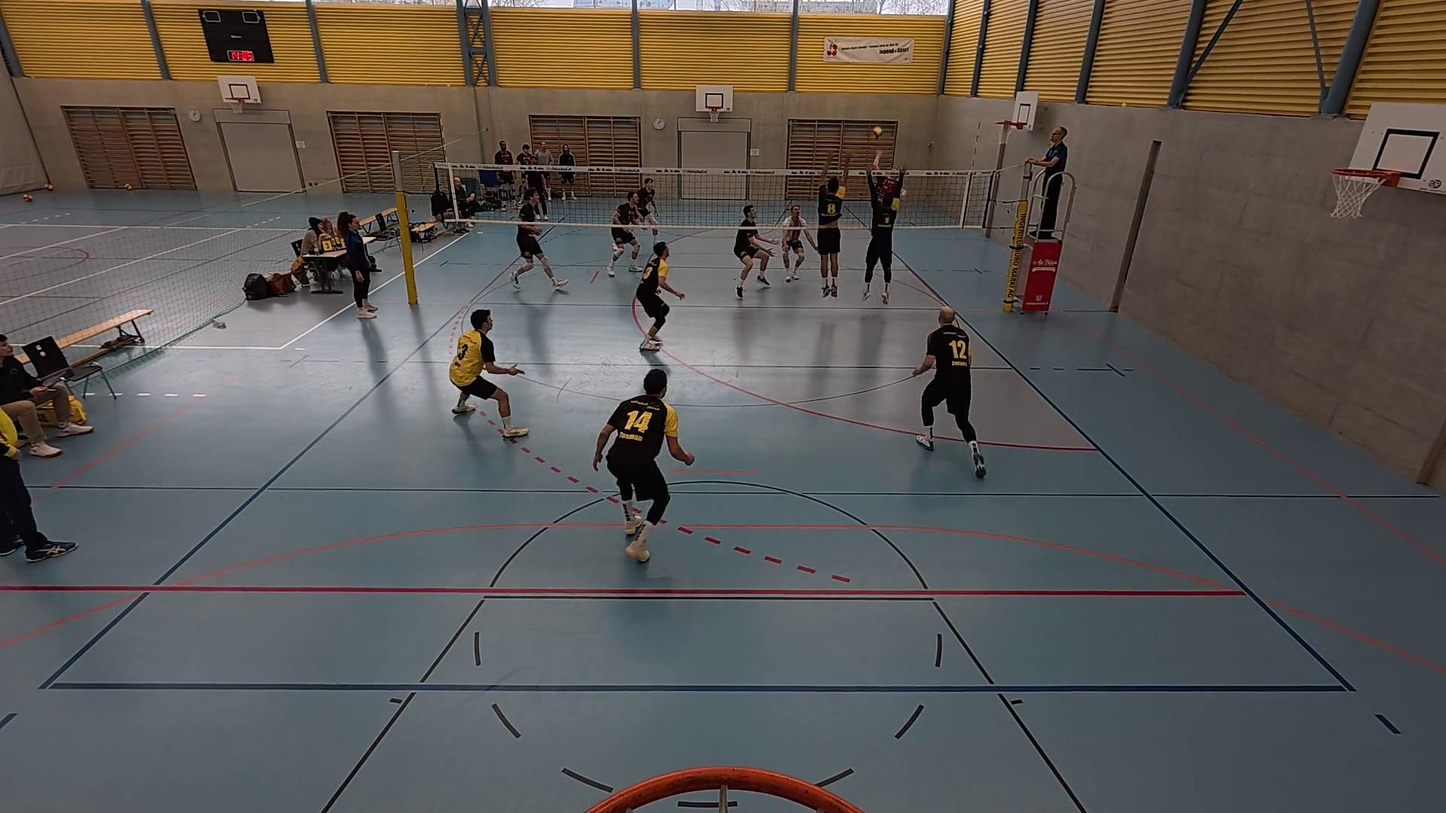Attack: (865, 145, 909, 271)
Block: (862, 152, 907, 304), (811, 149, 853, 300)
Player: (592, 368, 694, 563), (914, 307, 987, 477), (448, 309, 529, 440), (633, 240, 686, 351), (512, 193, 569, 294), (731, 206, 773, 299), (606, 191, 643, 278), (776, 205, 809, 285), (633, 175, 659, 236)
ball: (868, 126, 883, 138)
